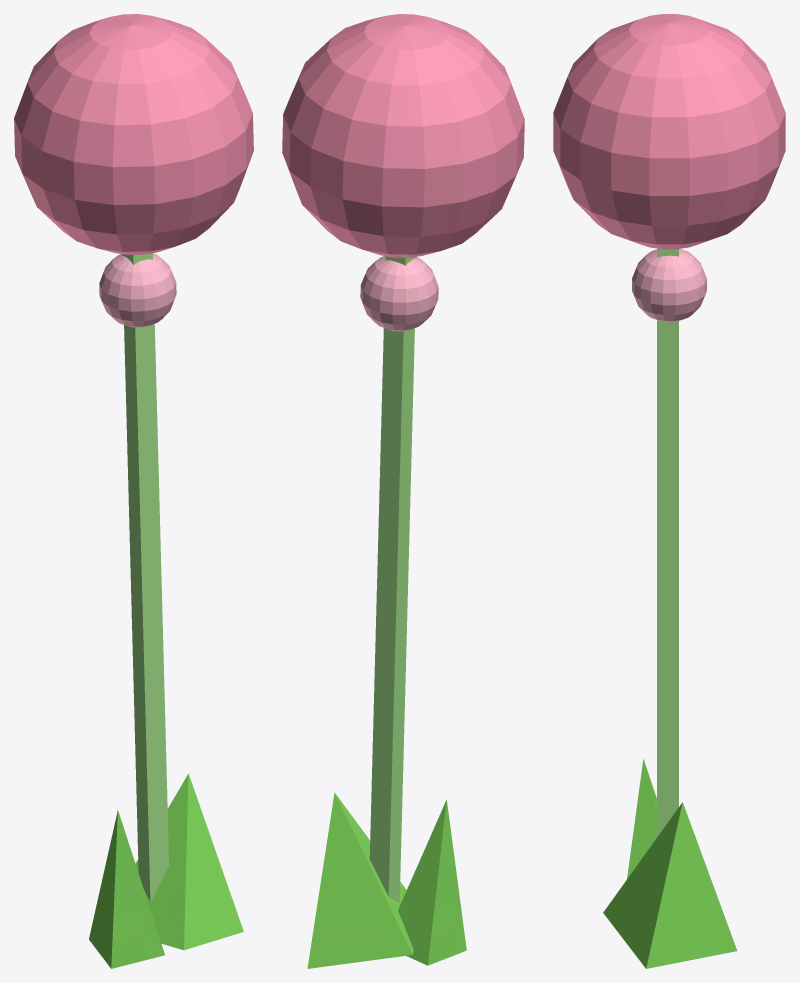
The model's file is 1fleurrose.FBX.
The picture shows the model from 3 angles, left to right: view 1: azimuth 30°, elevation 25°; view 2: azimuth 150°, elevation 25°; view 3: azimuth 270°, elevation 25°; orthographic projection. The views are drawn at different scales.
Visible parts, largest first — view 1: plante02; view 2: plante02; view 3: plante02.
Part boxes in pixels (<box>): plante02: <box>14,14,253,968</box>; plante02: <box>282,14,524,968</box>; plante02: <box>553,14,785,968</box>.
Bounding box in the file's own units: 10.47 × 45.06 × 10.58.
